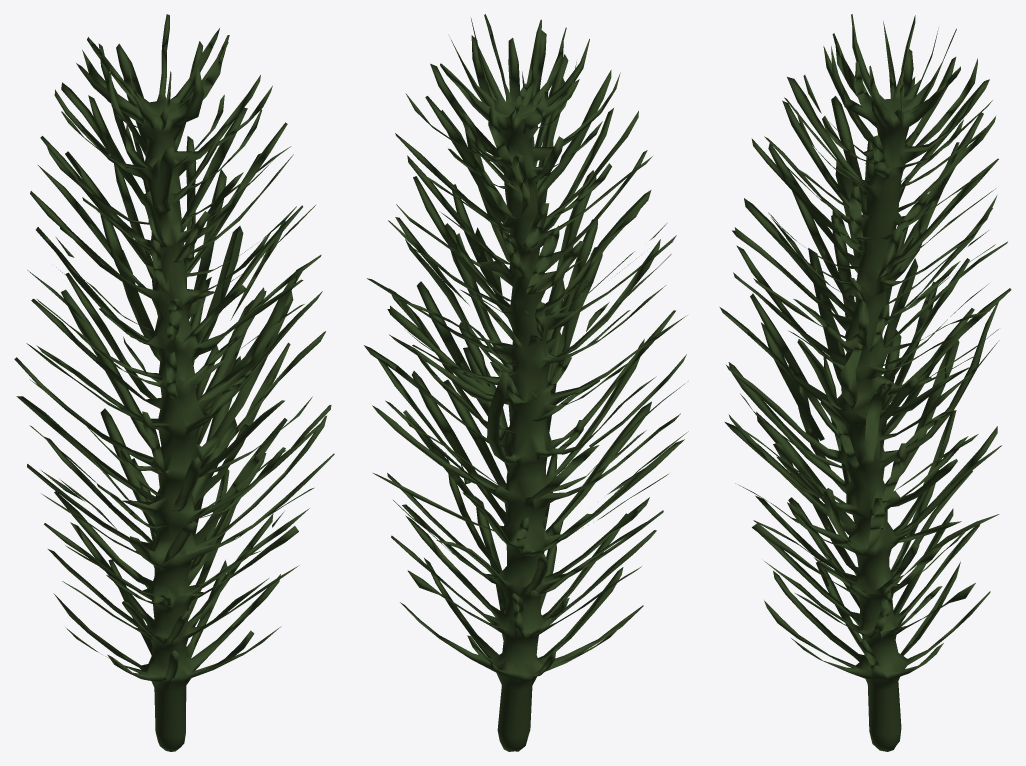
Rendered from sprig.glb.
The picture shows the model from 3 angles, left to right: view 1: azimuth 30°, elevation 25°; view 2: azimuth 150°, elevation 25°; view 3: azimuth 270°, elevation 25°; orthographic projection.
Visible parts, largest first — view 1: sprig; view 2: sprig; view 3: sprig.
Boxes of the visible parts, x1=… form: sprig: x1=14, y1=14, x2=334, y2=751; sprig: x1=364, y1=14, x2=688, y2=751; sprig: x1=719, y1=14, x2=1011, y2=751.
Size of the model in its own units: 0.4004 by 0.998 by 0.373.
